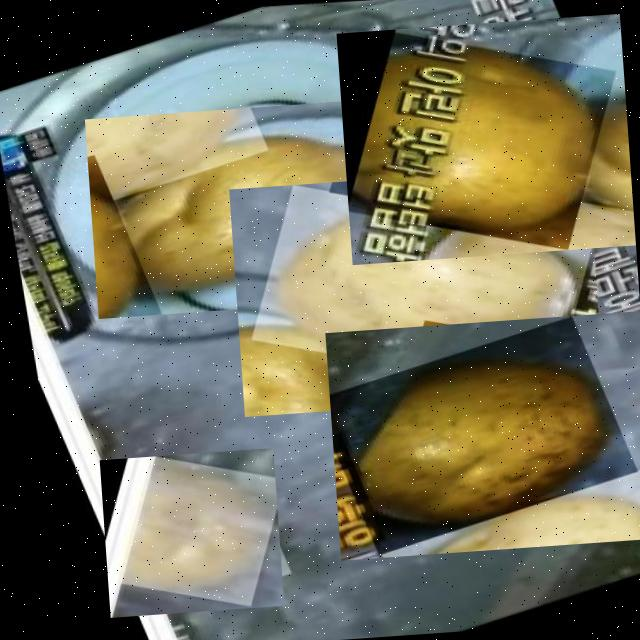Damaged potato: (325, 310, 640, 559)
Potato: (228, 162, 604, 416), (84, 95, 430, 318), (336, 12, 635, 264), (99, 446, 284, 616)
